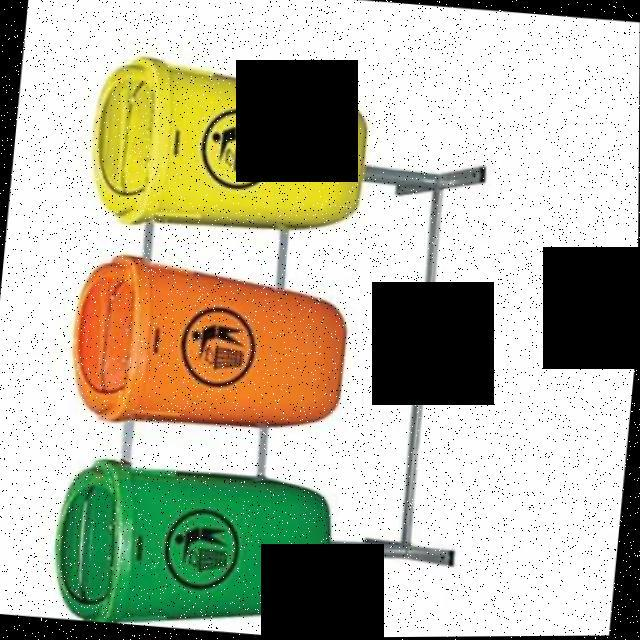bin: (1, 417, 369, 640), (41, 225, 368, 451), (69, 21, 386, 250)
